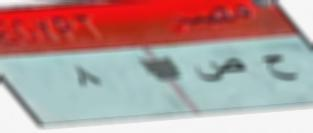7aa: (259, 49, 299, 90)
